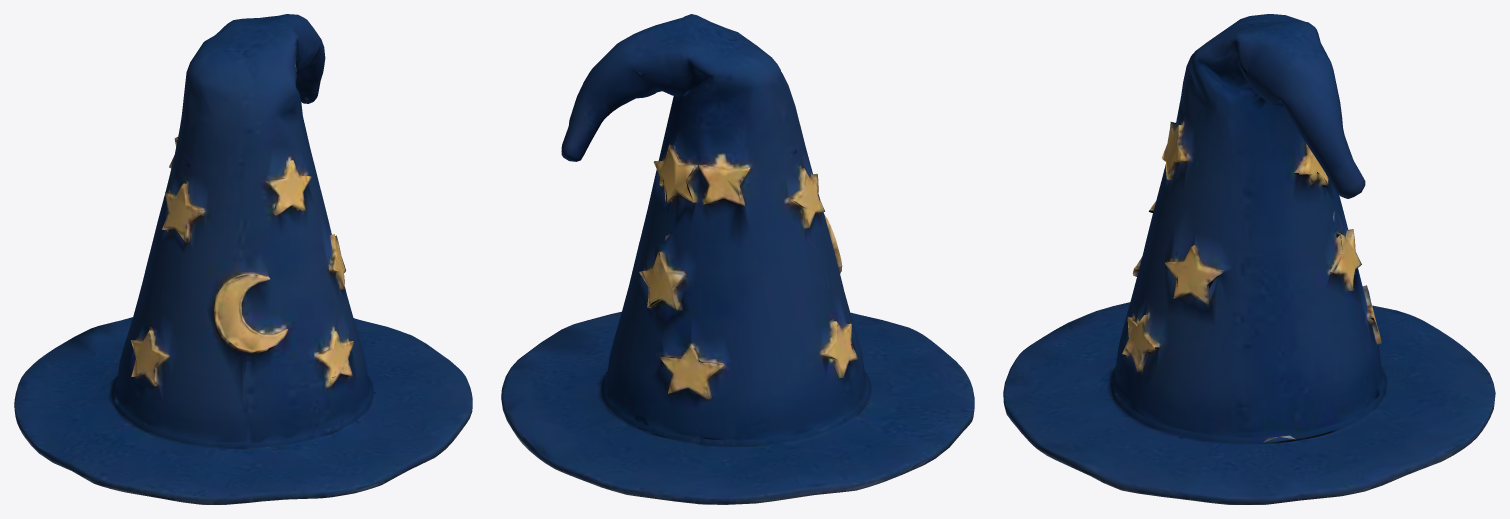
Rendered from wizard.glb.
3 views of the same model, side by side, from view 1: azimuth 30°, elevation 25°; view 2: azimuth 150°, elevation 25°; view 3: azimuth 270°, elevation 25° (orthographic). The views are drawn at different scales.
Visible parts, largest first — view 1: node_0; view 2: node_0; view 3: node_0.
Part boxes in pixels (<box>): node_0: <box>14,14,472,504</box>; node_0: <box>501,14,974,504</box>; node_0: <box>1003,14,1495,504</box>.
Size of the model in its own units: 0.46 by 0.4082 by 0.4602.
1 material, 1 textured.
